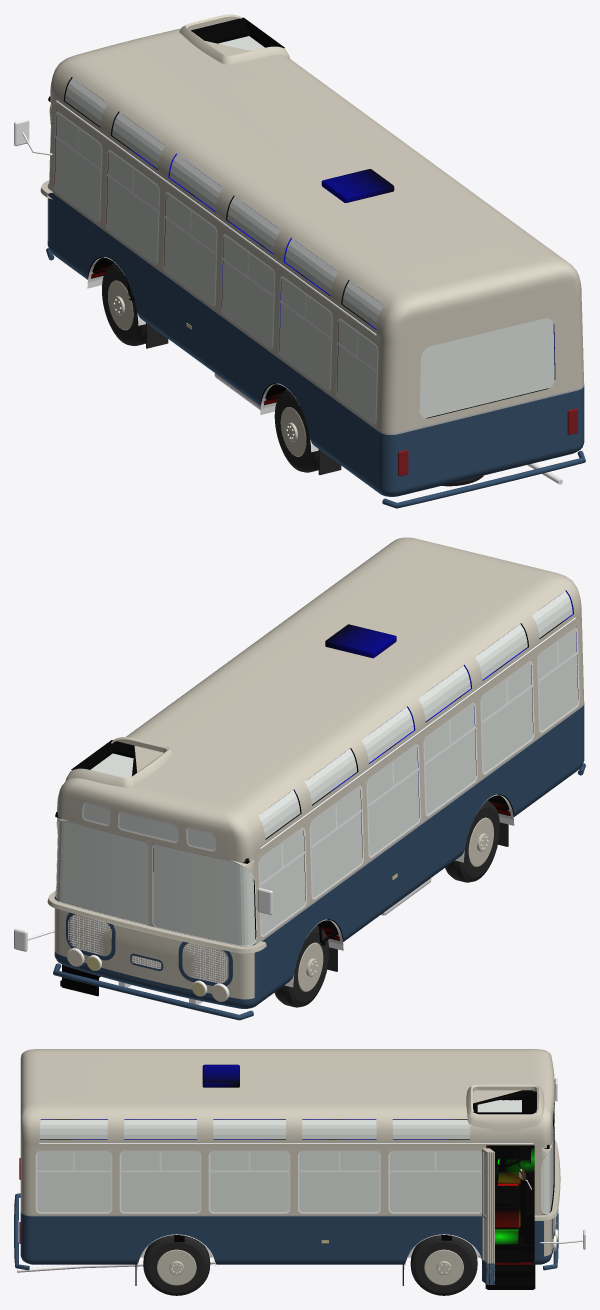
Rendered from Bus.fbx.
3 views of the same model, one above another, from view 1: azimuth 30°, elevation 25°; view 2: azimuth 150°, elevation 25°; view 3: azimuth 270°, elevation 25° (orthographic). The views are drawn at different scales.
Parts seen in each view (by area): view 1: Bus_Exterior_LOD0, Glass_RearWindow, Cabin_Static, Glass_WinL4, Glass_WinL1, Glass_WinL2, Glass_WinL3, Glass_WinL0, Glass_WinL5, Wheel_RL, Wheel_FL, Glass_SlopeL3 (+5 smaller); view 2: Bus_Exterior_LOD0, Glass_WindscreenL, Glass_WindscreenR, Cabin_Static, Glass_WinL4, Glass_WinL3, Glass_WinL2, Glass_WinL1, Glass_WinL0, Glass_WinL5, Wheel_RL, Wheel_FL (+8 smaller); view 3: Bus_Exterior_LOD0, Cabin_Static, Glass_WinR1, Glass_WinR2, Glass_WinR3, Glass_WinR4, Glass_WinR5, Wheel_FR, Wheel_RR, Glass_SlopeR1, Glass_SlopeR2, Glass_SlopeR3 (+6 smaller).
Boxes of the visible parts, x1,y1,x2,y2 form: Bus_Exterior_LOD0: (14,14,585,508); Glass_RearWindow: (419,317,554,417); Cabin_Static: (48,17,582,494); Glass_WinL4: (279,276,333,389); Glass_WinL1: (106,150,160,265); Glass_WinL2: (164,191,217,305); Glass_WinL3: (222,233,275,346); Glass_WinL0: (54,111,102,222); Glass_WinL5: (337,318,378,422); Wheel_RL: (274,389,318,472); Wheel_FL: (102,262,145,345); Glass_SlopeL3: (227,196,280,252); Bus_Exterior_LOD0: (14,537,585,1020); Glass_WindscreenL: (153,844,255,945); Glass_WindscreenR: (56,818,149,923); Cabin_Static: (55,590,578,996); Glass_WinL4: (480,660,533,772); Glass_WinL3: (423,702,476,816); Glass_WinL2: (366,744,419,855); Glass_WinL1: (309,785,362,897); Glass_WinL0: (258,828,305,937); Glass_WinL5: (537,628,578,731); Wheel_RL: (445,800,499,882); Wheel_FL: (274,925,329,1007); Bus_Exterior_LOD0: (14,1049,585,1285); Cabin_Static: (25,1064,554,1289); Glass_WinR1: (388,1150,481,1211); Glass_WinR2: (298,1150,380,1211); Glass_WinR3: (209,1150,289,1211); Glass_WinR4: (120,1150,200,1211); Glass_WinR5: (36,1150,111,1211); Wheel_FR: (410,1235,477,1295); Wheel_RR: (143,1235,210,1295); Glass_SlopeR1: (392,1120,469,1139); Glass_SlopeR2: (302,1120,376,1139); Glass_SlopeR3: (213,1120,285,1139).
Size of what is drawn, in the model's own units: 2.93 by 2.81 by 7.7.
